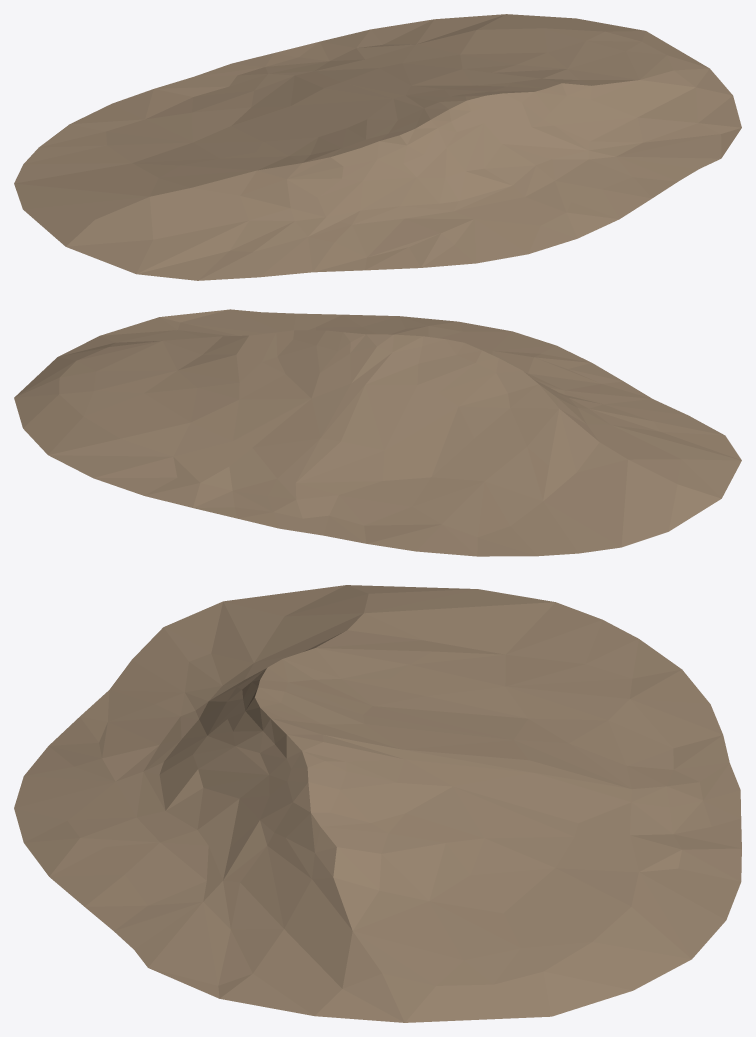
Rendered from SM_Env_SandDunes_02.fbx.
3 renders of one model, top to bottom at view 1: azimuth 30°, elevation 25°; view 2: azimuth 150°, elevation 25°; view 3: azimuth 270°, elevation 25°, orthographic. The views are drawn at different scales.
Parts seen in each view (by area): view 1: SM_Env_SandDunes_02; view 2: SM_Env_SandDunes_02; view 3: SM_Env_SandDunes_02.
Part boxes in pixels (left/top/right/bottom): SM_Env_SandDunes_02: left=14, top=14, right=741, bottom=280; SM_Env_SandDunes_02: left=14, top=309, right=741, bottom=556; SM_Env_SandDunes_02: left=14, top=585, right=741, bottom=1022.
Size of the model in its own units: 7807 by 742 by 5484.
